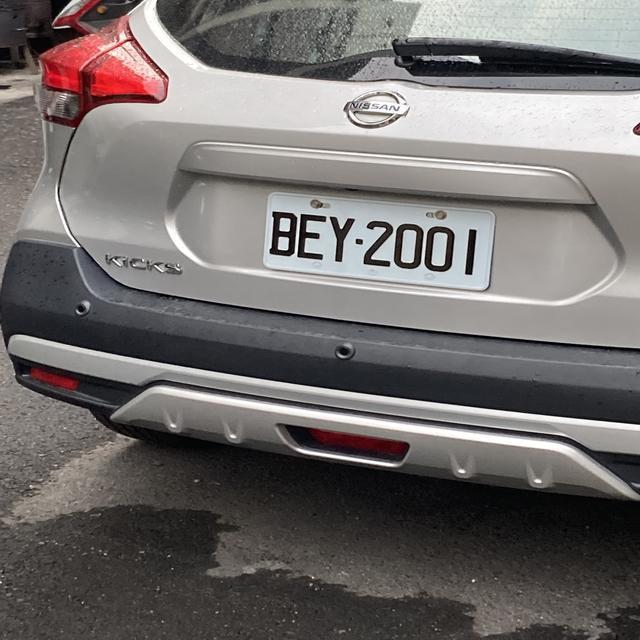plate: (265, 203, 488, 281)
